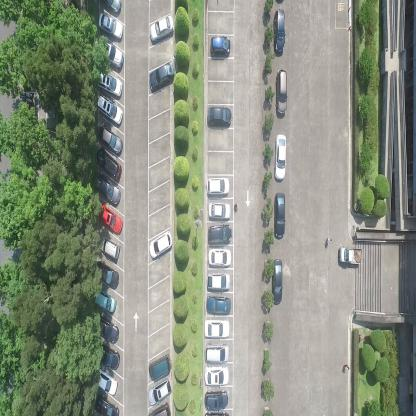car: (93, 172, 121, 207), (95, 146, 122, 182), (96, 92, 123, 128), (97, 120, 123, 156), (148, 60, 175, 94), (96, 311, 120, 347), (99, 201, 123, 235), (148, 229, 173, 261), (146, 376, 172, 406), (97, 68, 123, 98), (98, 10, 123, 41), (97, 339, 121, 371), (94, 284, 118, 316), (98, 232, 122, 264), (100, 39, 124, 71), (95, 258, 118, 290), (149, 14, 173, 44), (96, 365, 118, 397), (148, 353, 172, 382), (274, 67, 288, 116), (272, 8, 286, 56), (274, 132, 287, 181), (207, 104, 232, 128), (274, 191, 286, 239), (93, 394, 119, 416), (203, 318, 231, 338), (204, 342, 230, 363), (205, 295, 232, 315), (272, 258, 283, 306), (208, 224, 232, 246), (204, 366, 230, 386), (338, 245, 362, 266), (206, 176, 230, 197), (206, 272, 231, 292), (204, 389, 228, 409), (208, 249, 232, 268), (210, 34, 230, 56), (208, 202, 232, 220), (97, 0, 123, 15), (147, 401, 171, 415)
